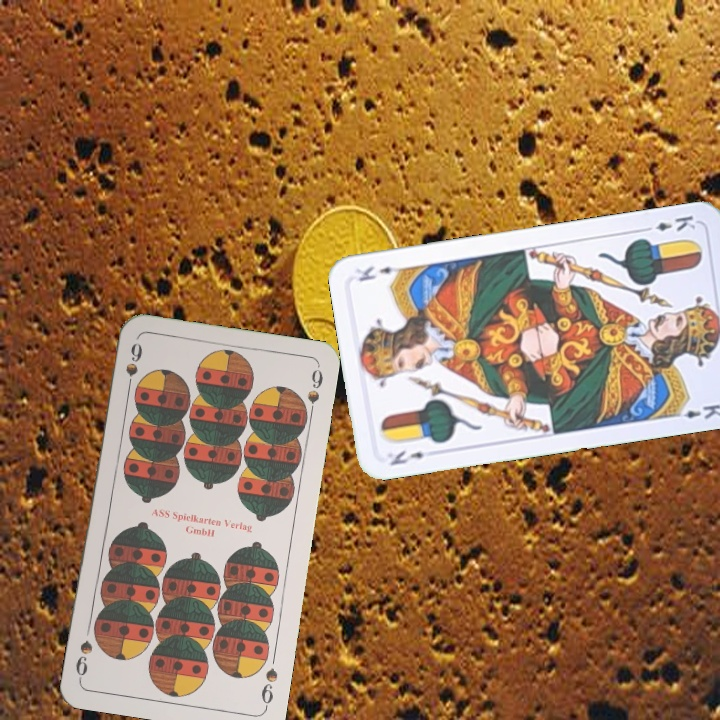EK: (639, 211, 698, 235), (386, 446, 427, 468)
S9: (122, 338, 145, 396), (257, 664, 280, 711)
